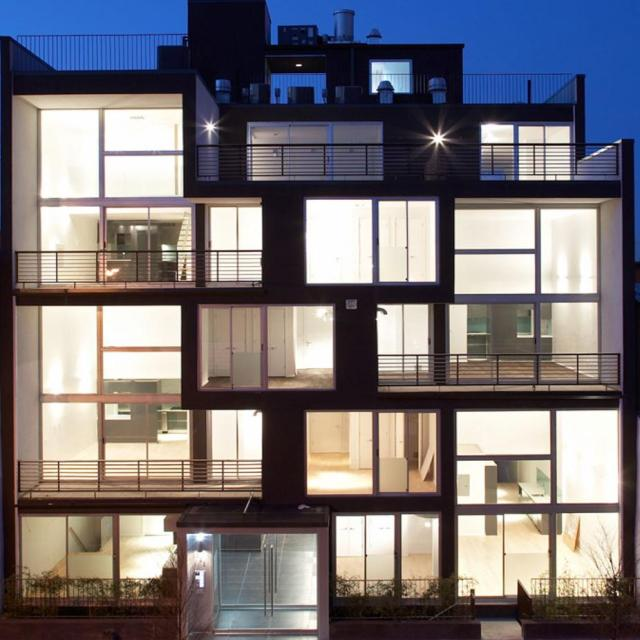door: (221, 534, 316, 610)
railing: (378, 356, 622, 392), (271, 77, 577, 105), (16, 253, 263, 287), (18, 462, 265, 492), (13, 35, 188, 73), (13, 578, 176, 618), (199, 146, 385, 178), (337, 581, 474, 616), (482, 147, 621, 181), (533, 582, 637, 622)
window: (40, 306, 265, 462), (40, 111, 262, 254), (456, 210, 602, 356), (457, 410, 621, 506), (458, 512, 621, 598), (307, 201, 441, 286), (202, 307, 339, 389), (309, 414, 439, 496), (22, 517, 178, 577), (334, 512, 440, 580), (245, 124, 384, 145), (377, 307, 432, 353), (483, 123, 572, 144), (372, 60, 412, 77)
